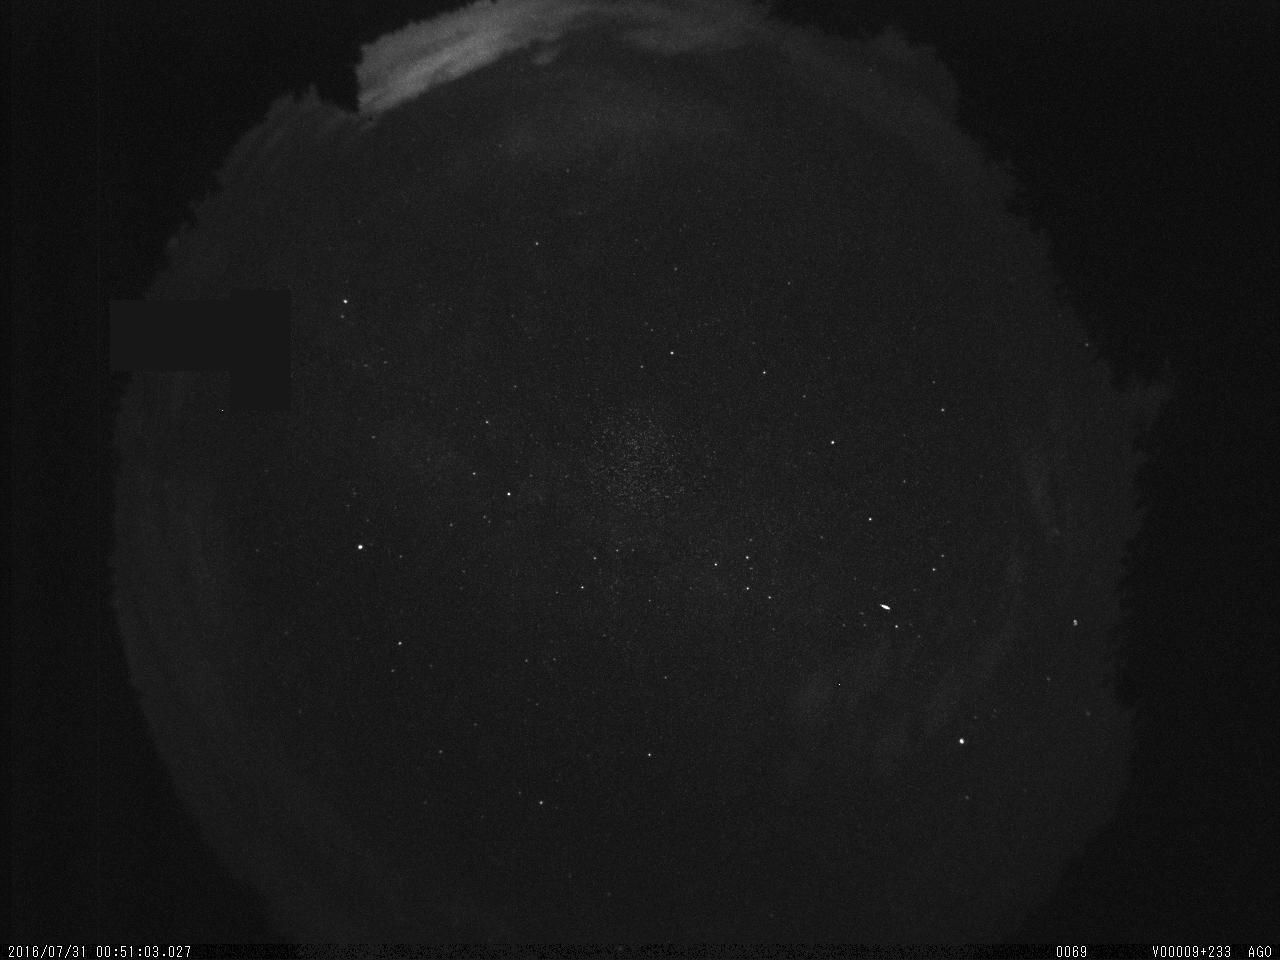meteor: (874, 598, 898, 615)
